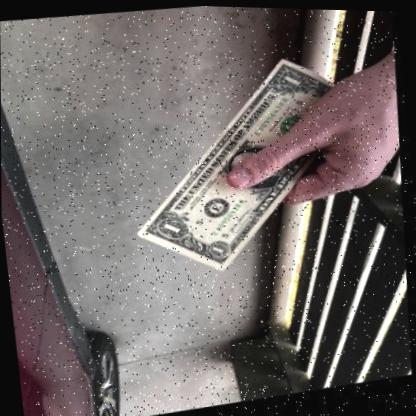one-front: (137, 60, 362, 273)
